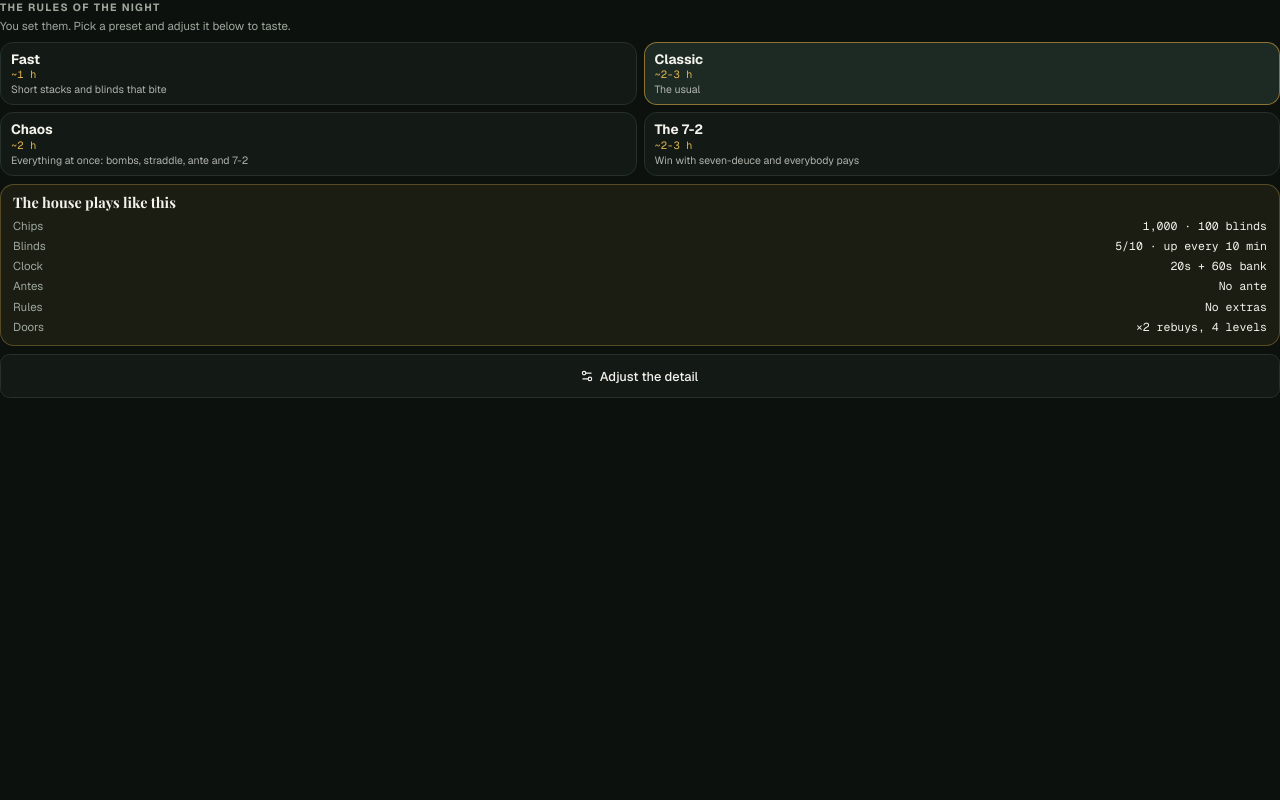
Test: shows the rules that won when the server refuses a stale save
Step 1. Click the button "Adjust the detail" → {"x": 640, "y": 376}, box [0, 354, 1279, 398]
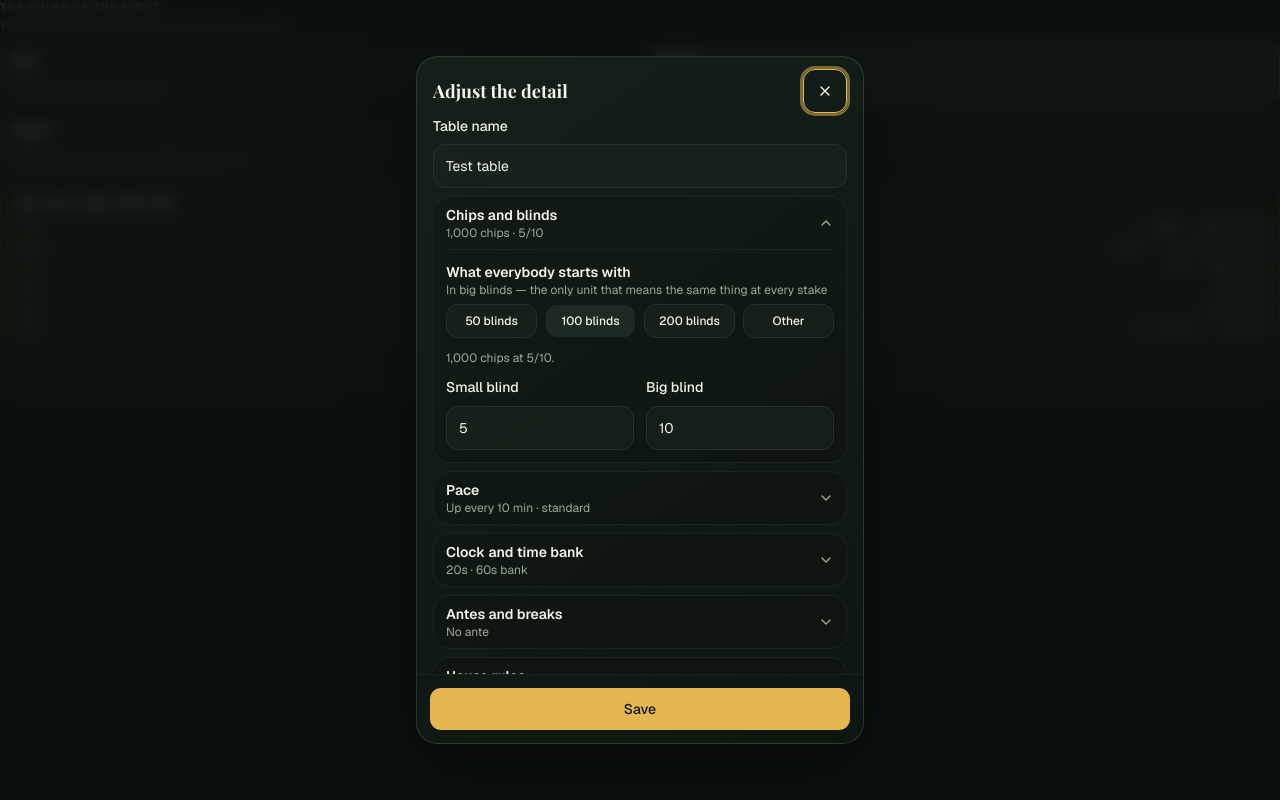
Step 2. Click the button "200 blinds" → {"x": 690, "y": 321}, box [644, 304, 735, 338]
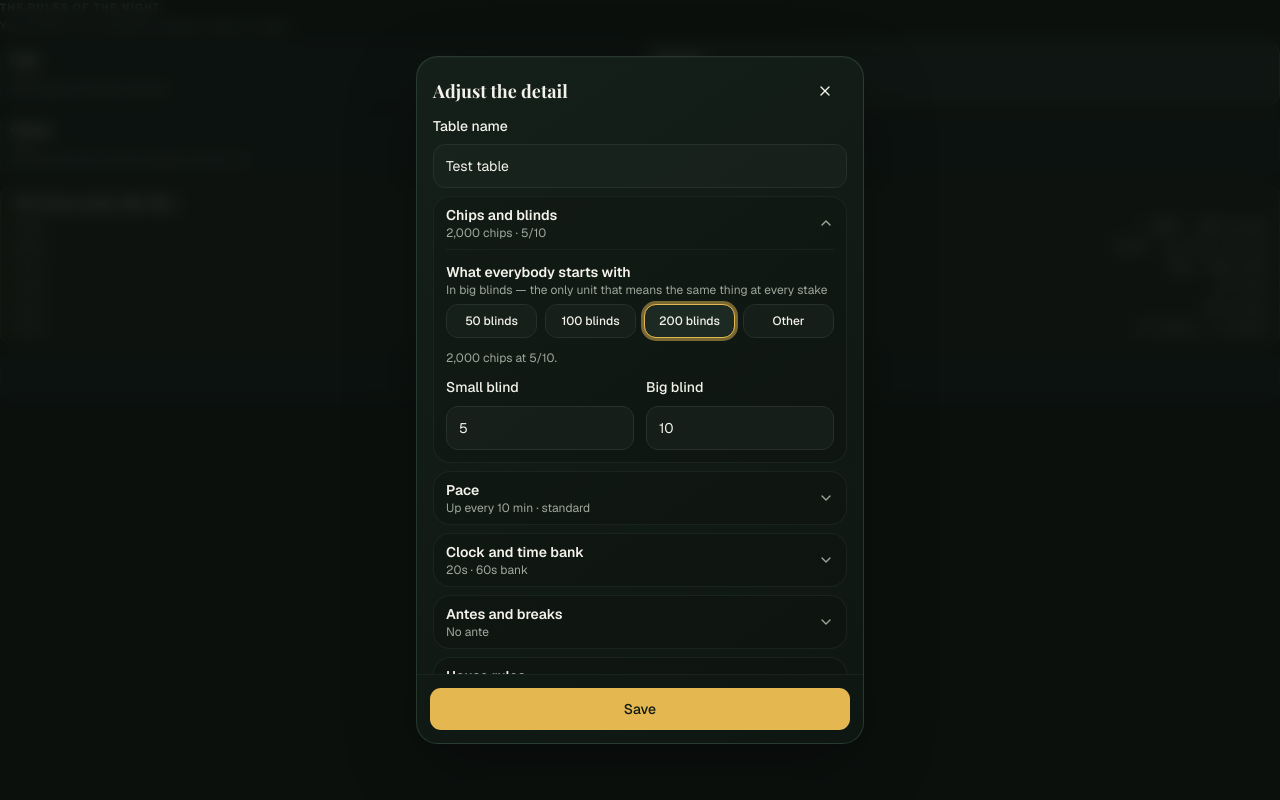
Step 3. Click the button "Save" → {"x": 640, "y": 709}, box [429, 687, 851, 731]
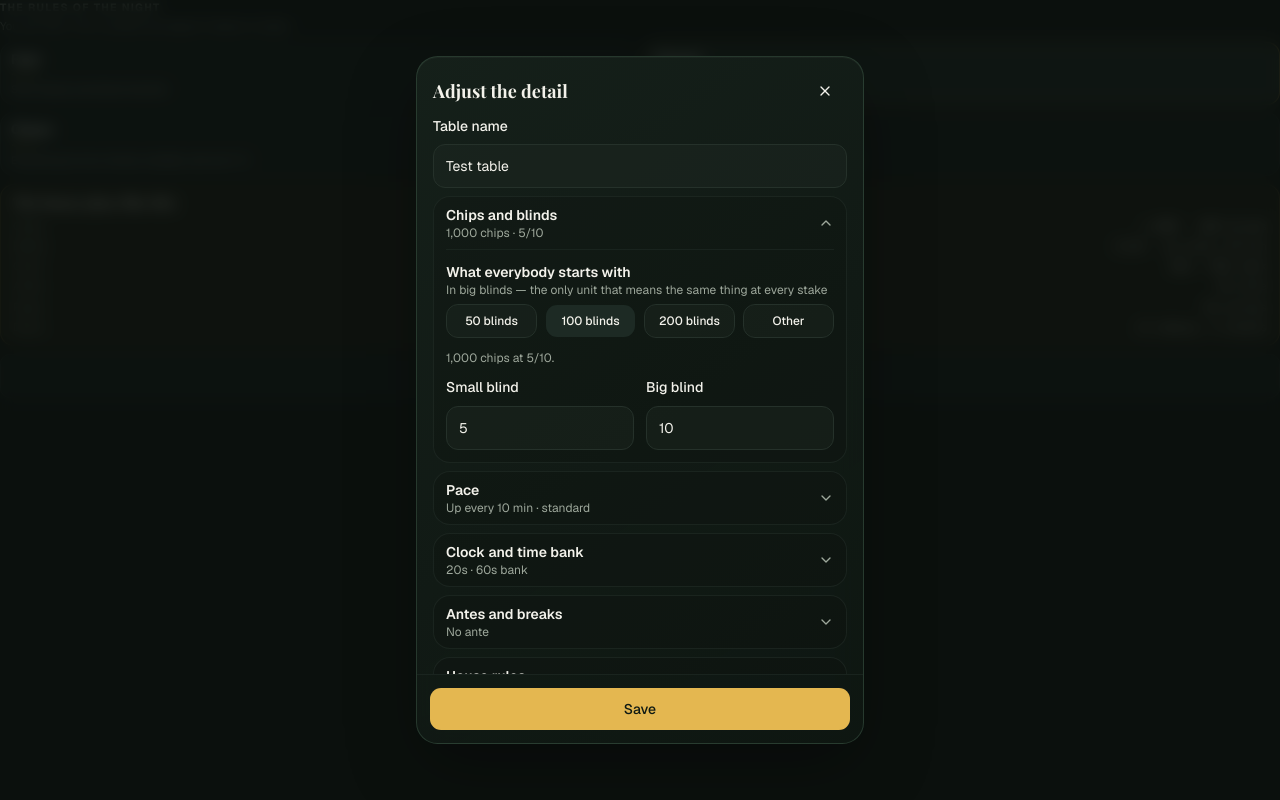
Now the text "1,000 chips at 5/10." is shown, box [446, 350, 554, 366]
